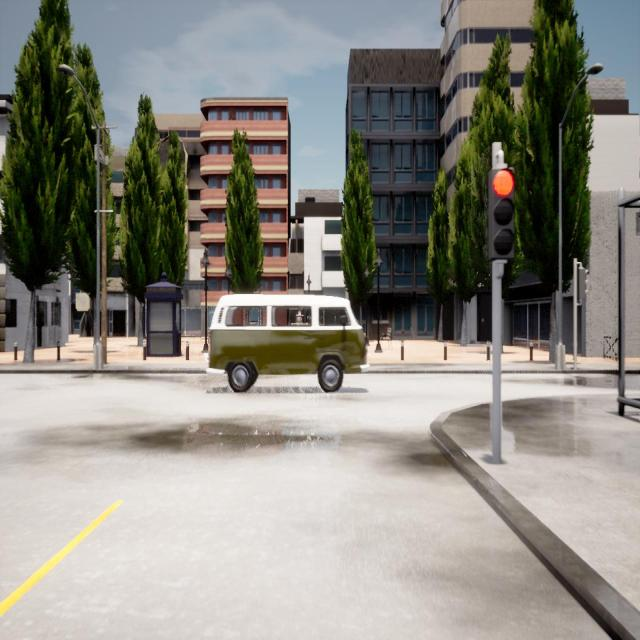Vehicle: (210, 294, 366, 391)
traffic_light: (490, 170, 514, 259), (578, 268, 588, 300)
